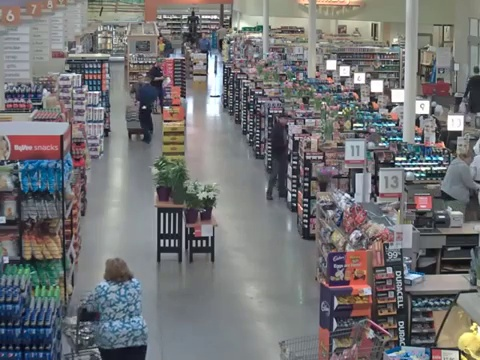face: (281, 117, 289, 124), (137, 75, 144, 82)
